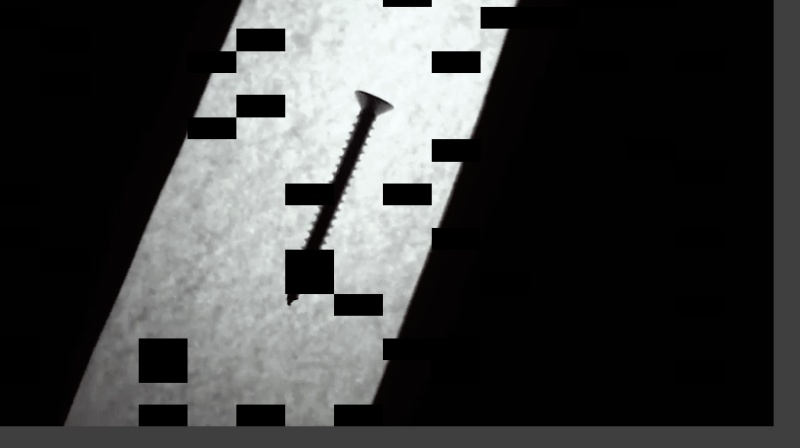S002: (282, 88, 396, 309)
